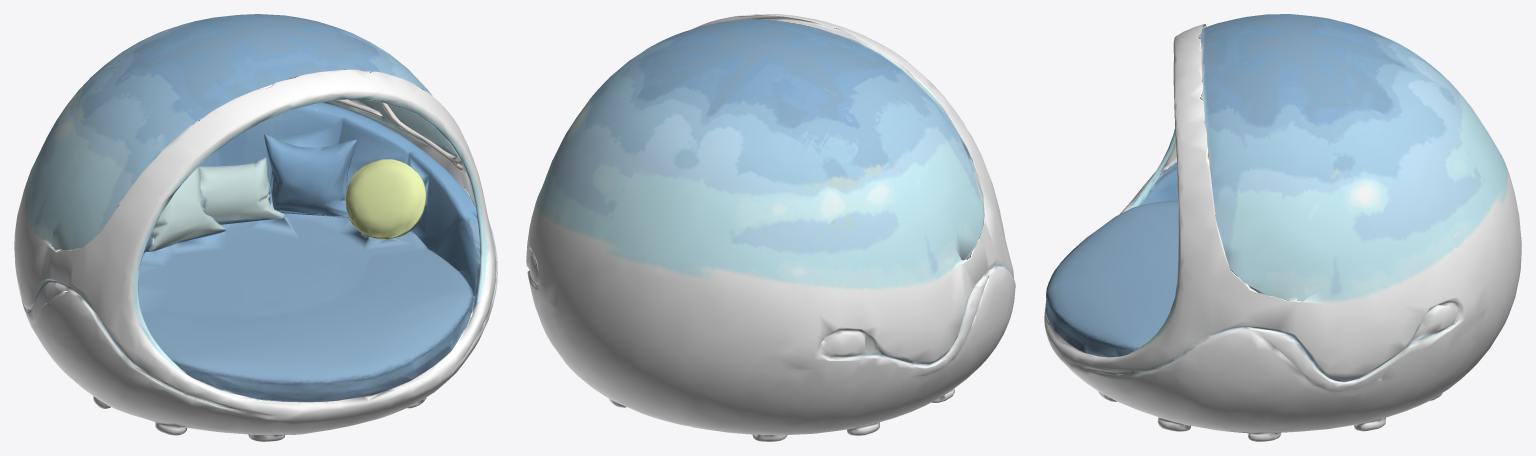
Rendered from dome-sofa.glb.
3 views of the same model, side by side, from view 1: azimuth 30°, elevation 25°; view 2: azimuth 150°, elevation 25°; view 3: azimuth 270°, elevation 25° (orthographic).
Parts seen in each view (by area): view 1: world; view 2: world; view 3: world.
Part boxes in pixels (x1,y1,x2,y2): world: (14, 14, 497, 441); world: (526, 14, 1015, 441); world: (1044, 14, 1521, 441).
Size of the model in its own units: 1 by 0.7405 by 0.9957.
1 material, 1 textured.
